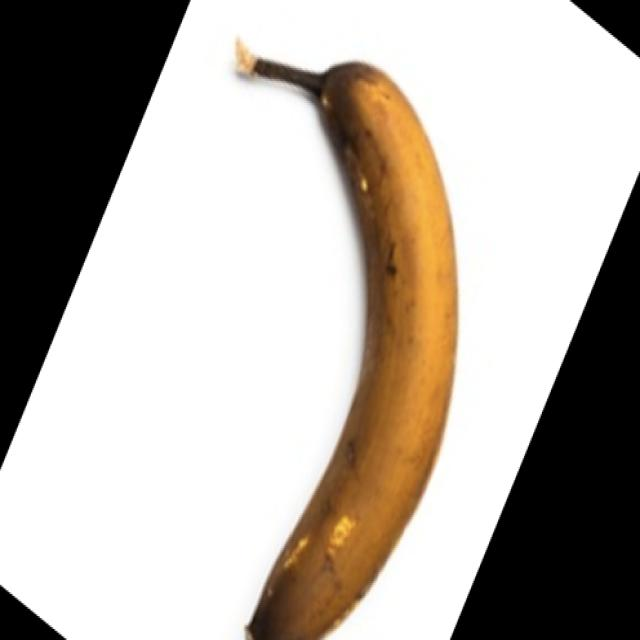overripe: (241, 59, 461, 640)
